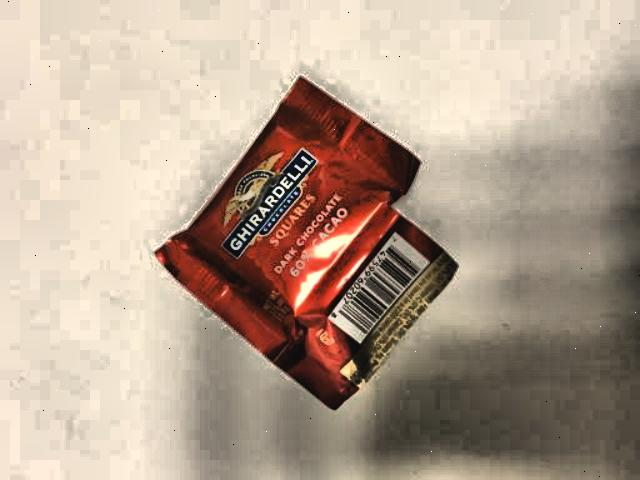Plastic: (136, 82, 468, 413)
